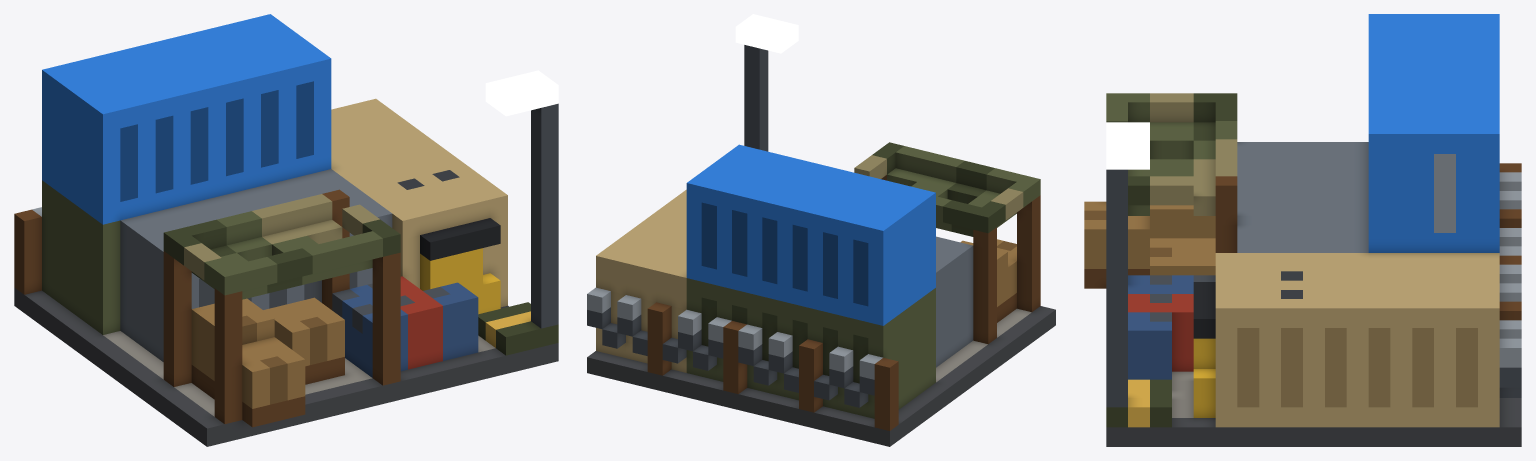
The model's file is cm_depot_1.glb.
3 renders of one model, left to right at view 1: azimuth 30°, elevation 25°; view 2: azimuth 150°, elevation 25°; view 3: azimuth 270°, elevation 25°, orthographic. The views are drawn at different scales.
Visible parts, largest first — view 1: cm_depot_1_body; view 2: cm_depot_1_body; view 3: cm_depot_1_body.
Boxes of the visible parts, x1,y1,x2,y2 form: cm_depot_1_body: (14,14,558,446); cm_depot_1_body: (587,14,1055,446); cm_depot_1_body: (1084,14,1521,446).
Bounding box in the file's own units: 1.25 × 0.9375 × 1.25.
Materials: 1 (1 with a texture image).
